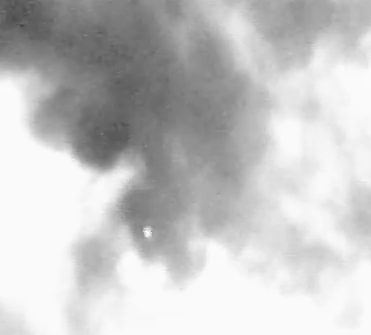Target: (144, 226, 152, 236)
